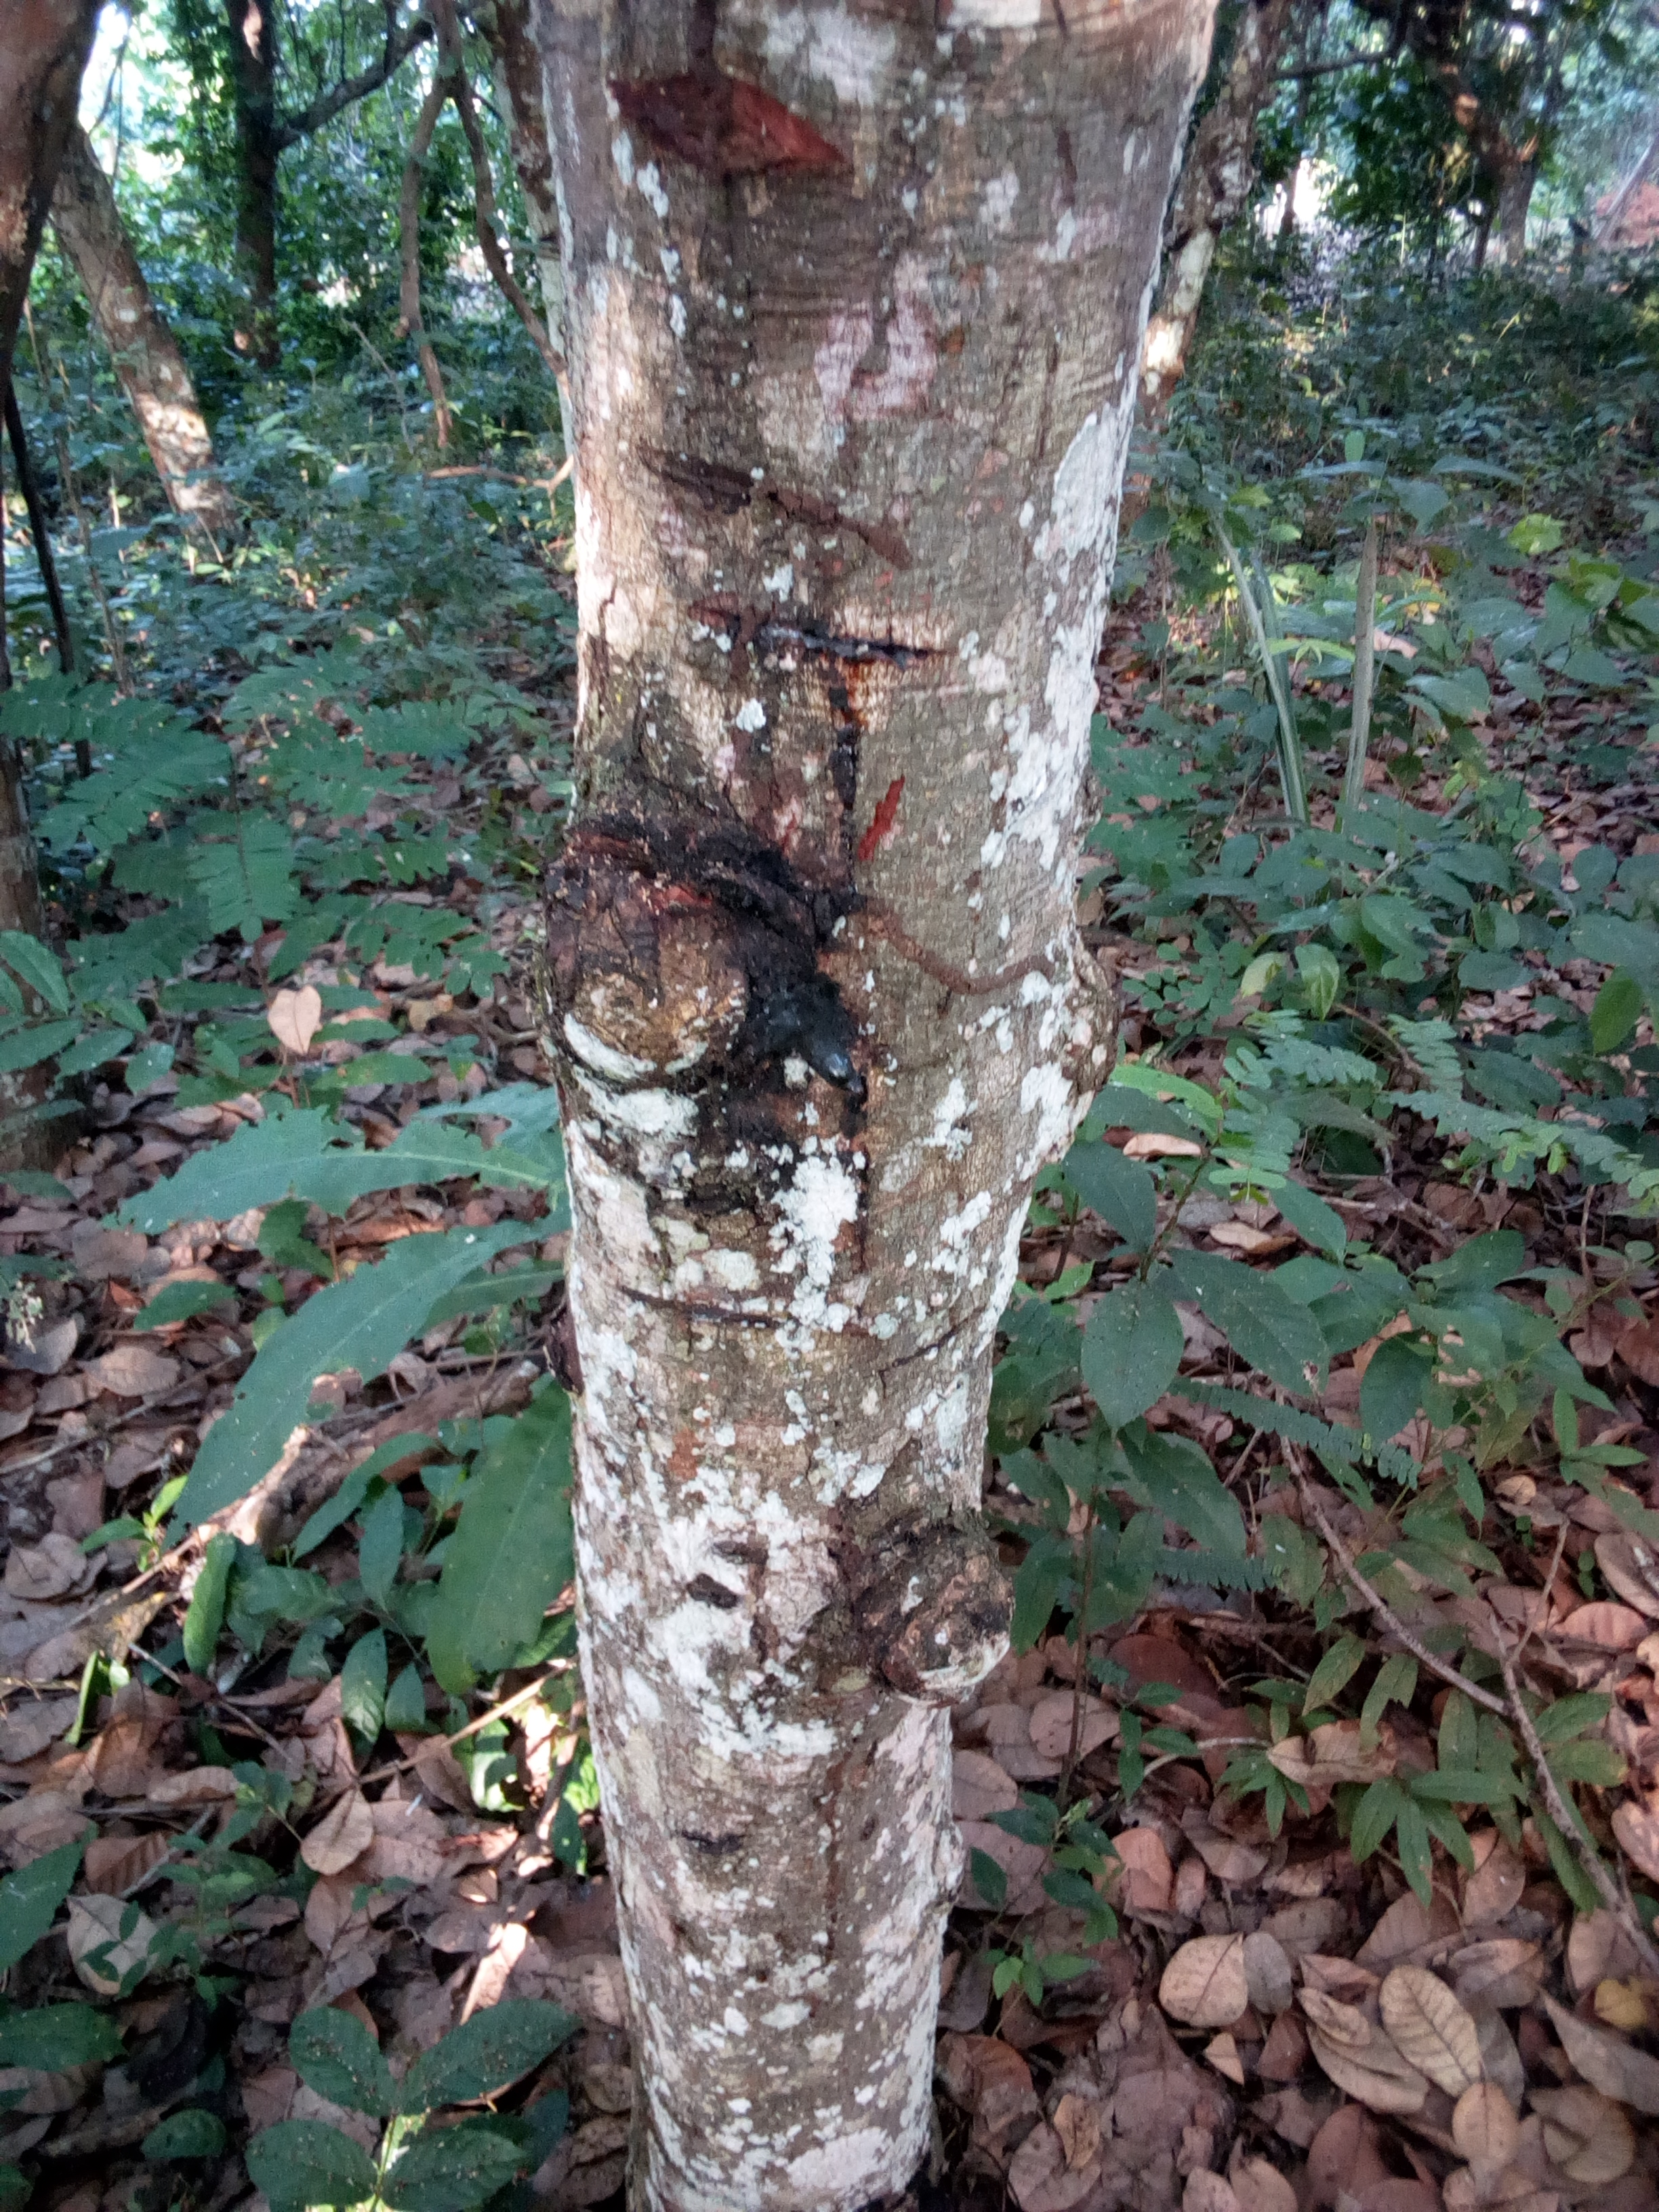Mecocorynus longiceps: (481, 765, 918, 1249)
